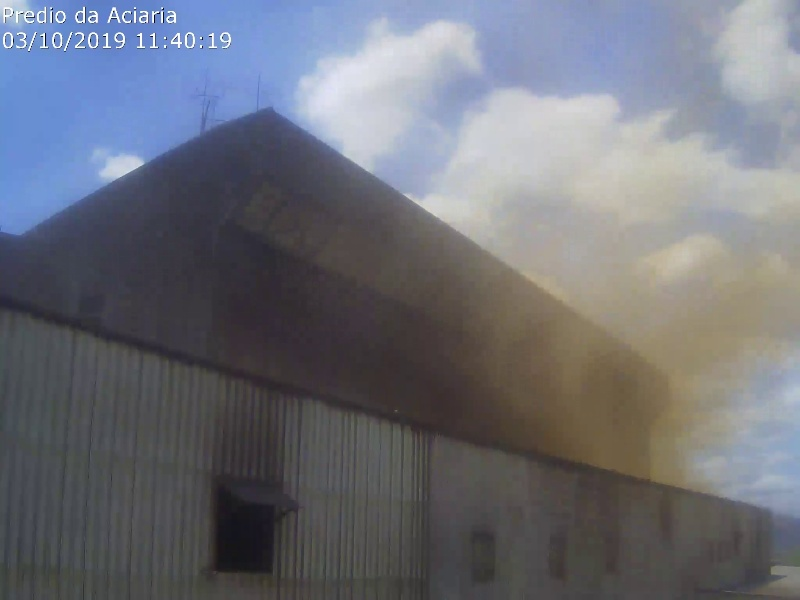bom: (1, 7, 289, 182)
pessimo: (405, 38, 800, 483)
